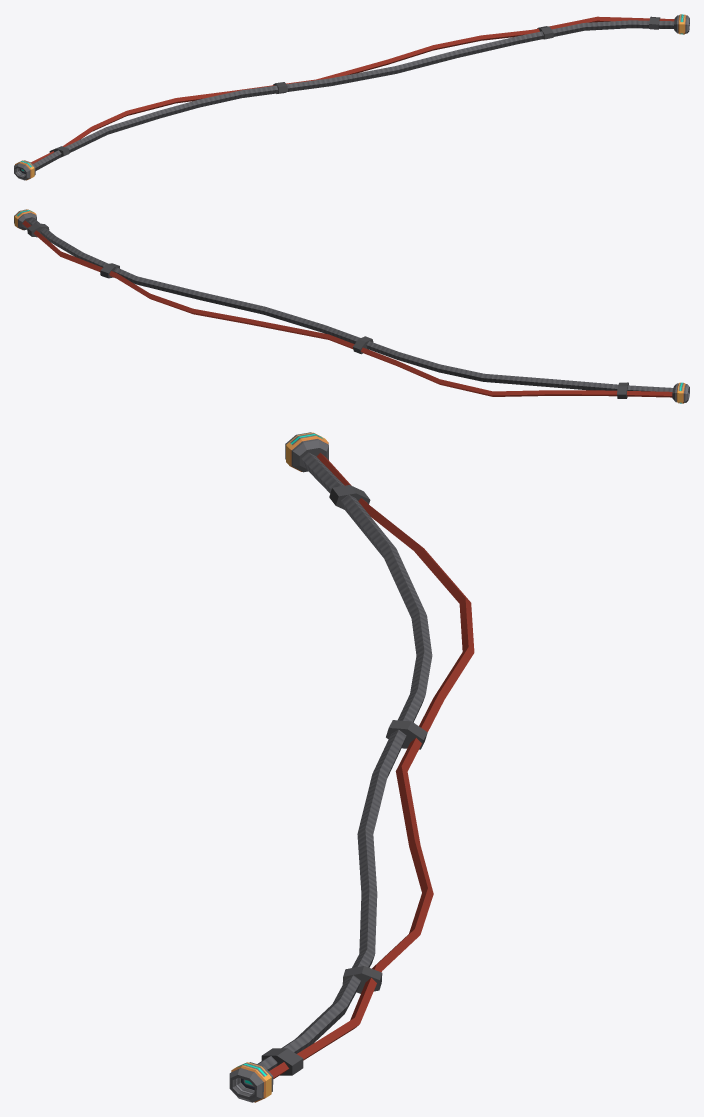
File: SM_Prop_Wires_14.fbx
The picture shows the model from 3 angles, top to bottom: view 1: azimuth 30°, elevation 25°; view 2: azimuth 150°, elevation 25°; view 3: azimuth 270°, elevation 25°; orthographic projection. The views are drawn at different scales.
Visible parts, largest first — view 1: SM_Prop_Wires_14; view 2: SM_Prop_Wires_14; view 3: SM_Prop_Wires_14.
Part boxes in pixels (bbox=[...]): SM_Prop_Wires_14: bbox=[14, 14, 689, 180]; SM_Prop_Wires_14: bbox=[14, 209, 689, 403]; SM_Prop_Wires_14: bbox=[229, 432, 474, 1102].
Size of the model in its own units: 819 by 20.7 by 131.
